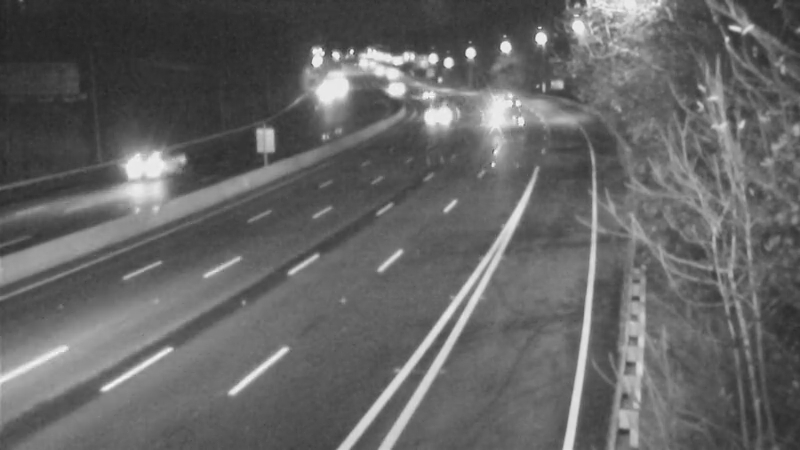vehicle: (102, 126, 182, 206), (367, 65, 417, 115), (402, 71, 452, 121), (475, 82, 525, 132), (411, 89, 461, 139)
